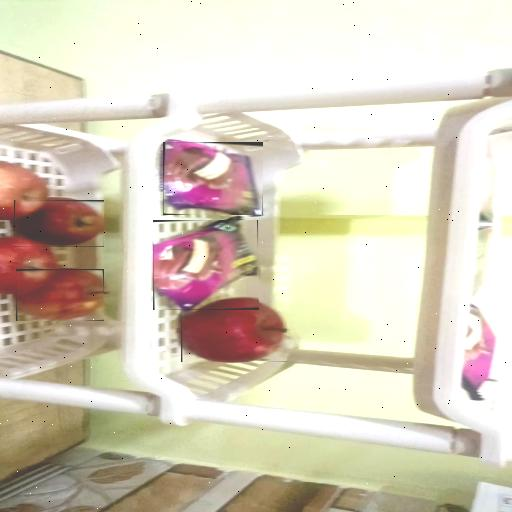Apple: (181, 300, 287, 362), (16, 269, 104, 321), (14, 200, 104, 247)
Choco Pie: (154, 220, 260, 310), (163, 142, 263, 215)
